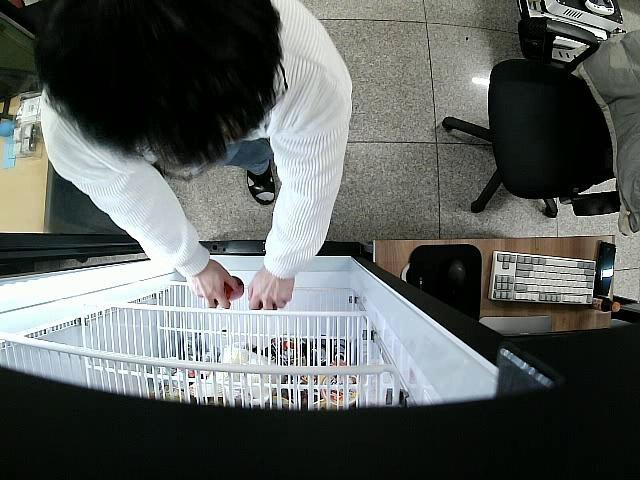11_cocaColaZero: (220, 272, 246, 305)
